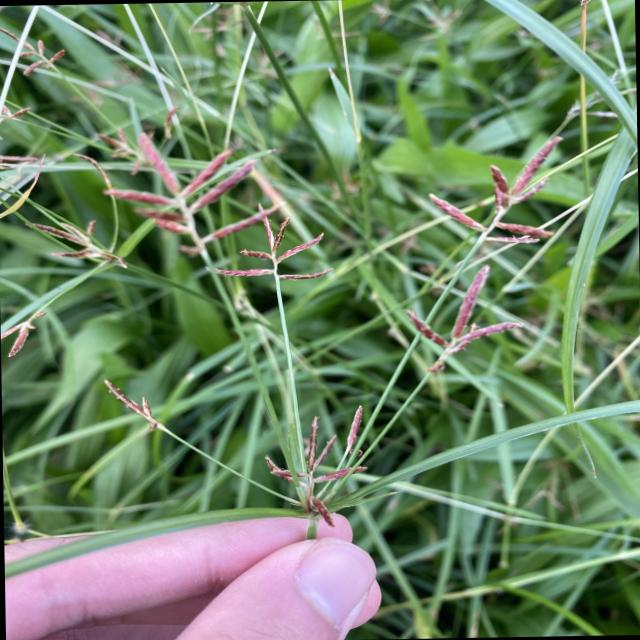cyperus: (90, 364, 388, 540), (401, 131, 583, 406), (0, 30, 141, 363), (83, 90, 269, 262), (248, 402, 410, 536), (205, 200, 338, 312)
